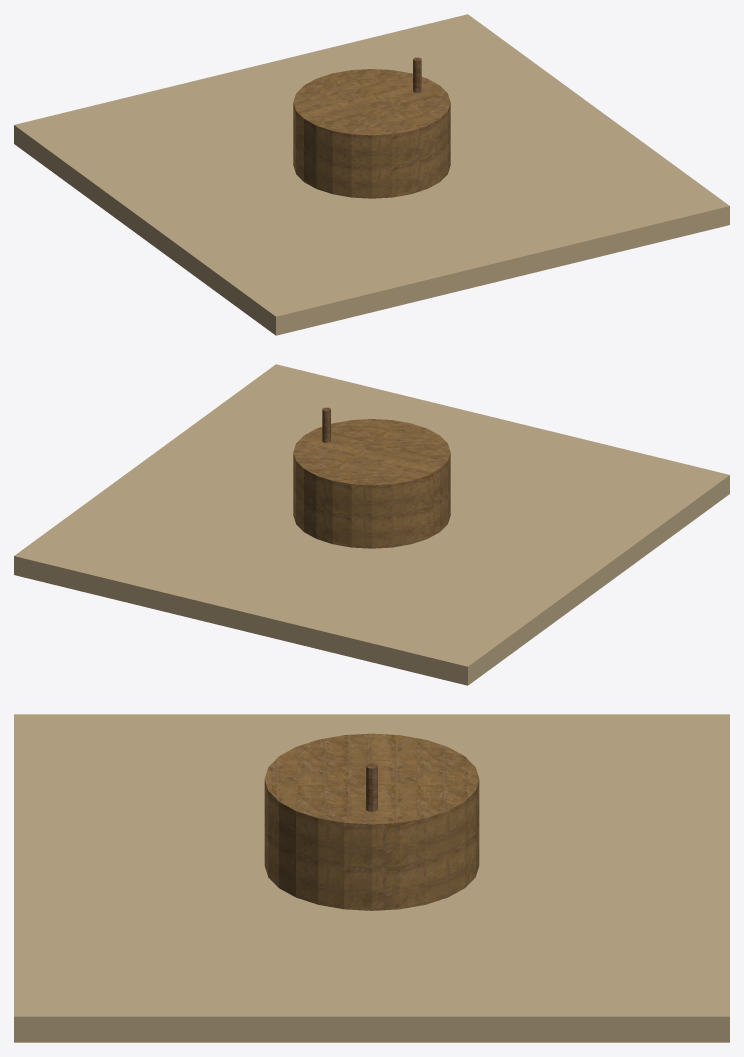
File: moinho.glb
The picture shows the model from 3 angles, top to bottom: view 1: azimuth 30°, elevation 25°; view 2: azimuth 150°, elevation 25°; view 3: azimuth 270°, elevation 25°; orthographic projection. The views are drawn at different scales.
Parts seen in each view (by area): view 1: Base ilustrativa, Mó.001, Mó; view 2: Base ilustrativa, Mó.001, Mó; view 3: Base ilustrativa, Mó.001, Mó, Manivela.
Boxes of the visible parts, x1=… form: Base ilustrativa: x1=14, y1=14, x2=729, y2=335; Mó.001: x1=293, y1=69, x2=450, y2=166; Mó: x1=293, y1=134, x2=450, y2=198; Base ilustrativa: x1=14, y1=364, x2=729, y2=685; Mó.001: x1=293, y1=419, x2=450, y2=516; Mó: x1=293, y1=484, x2=450, y2=548; Base ilustrativa: x1=14, y1=714, x2=729, y2=1042; Mó.001: x1=264, y1=733, x2=479, y2=867; Mó: x1=264, y1=823, x2=479, y2=910; Manivela: x1=366, y1=763, x2=377, y2=811.
Size of the model in its own units: 6 by 1.44 by 6.
3 materials, 2 textured.
